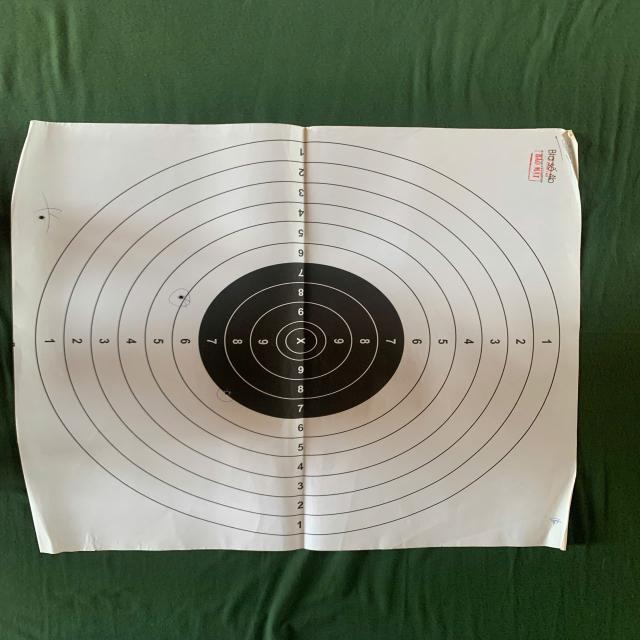bullet: (224, 390, 230, 397), (180, 292, 184, 300), (39, 215, 44, 220)
target: (9, 120, 581, 552)
